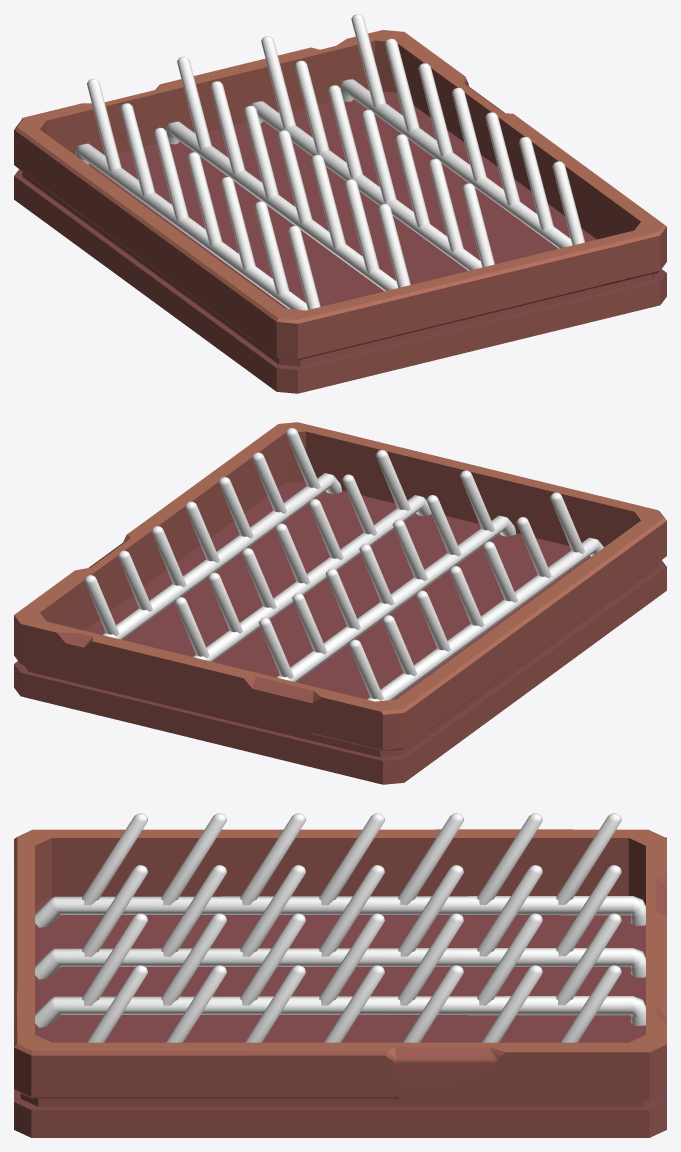
The model's file is Wash-Area.fbx.
3 views of the same model, one above another, from view 1: azimuth 30°, elevation 25°; view 2: azimuth 150°, elevation 25°; view 3: azimuth 270°, elevation 25° (orthographic). The views are drawn at different scales.
Visible parts, largest first — view 1: Wash, Dishwasher_ (×2); view 2: Wash, Dishwasher_ (×2); view 3: Wash, Dishwasher_ (×2).
Part boxes in pixels (bbox=[...]): Wash: bbox=[14, 30, 666, 393]; Dishwasher_ (×2): bbox=[75, 14, 584, 310]; Wash: bbox=[14, 422, 666, 784]; Dishwasher_ (×2): bbox=[84, 427, 603, 701]; Wash: bbox=[14, 829, 666, 1137]; Dishwasher_ (×2): bbox=[35, 813, 645, 1042].
Bounding box in the file's own units: 513 × 145 × 631.
Materials: 2 (1 with a texture image).
